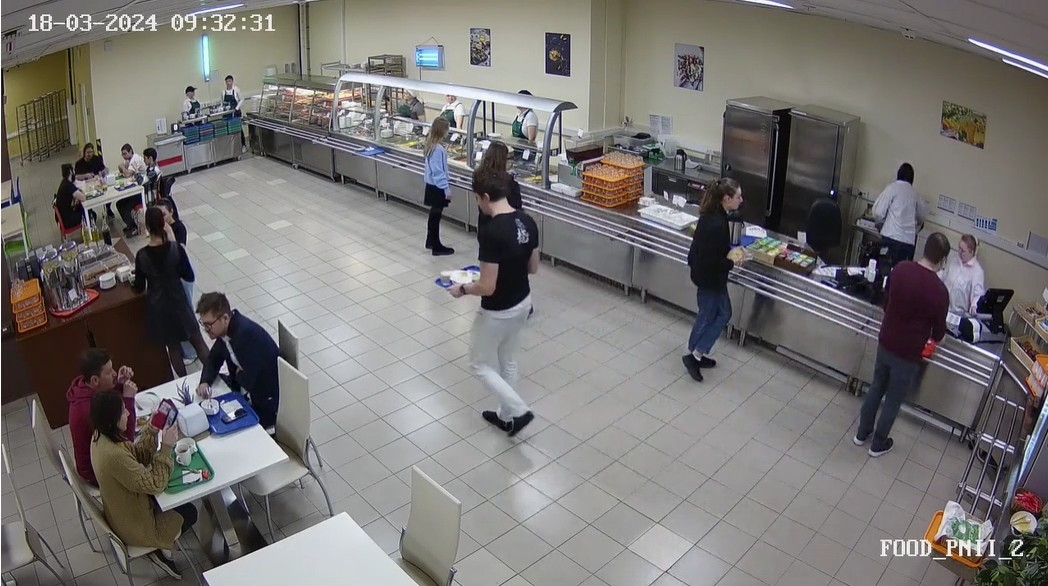Na_Kasse: (769, 218, 979, 460), (643, 173, 758, 379)
Ne_v_Ocheredi: (447, 171, 540, 458), (122, 206, 250, 370)
Personal: (875, 151, 925, 255), (944, 232, 990, 323), (216, 70, 248, 129), (509, 91, 542, 146), (177, 85, 210, 126)
Vybiraet: (416, 110, 460, 260)
Za_Stolom: (191, 288, 288, 427), (91, 383, 175, 540), (59, 345, 126, 484), (53, 158, 90, 237), (71, 133, 109, 193), (139, 142, 172, 195), (117, 135, 146, 187)
